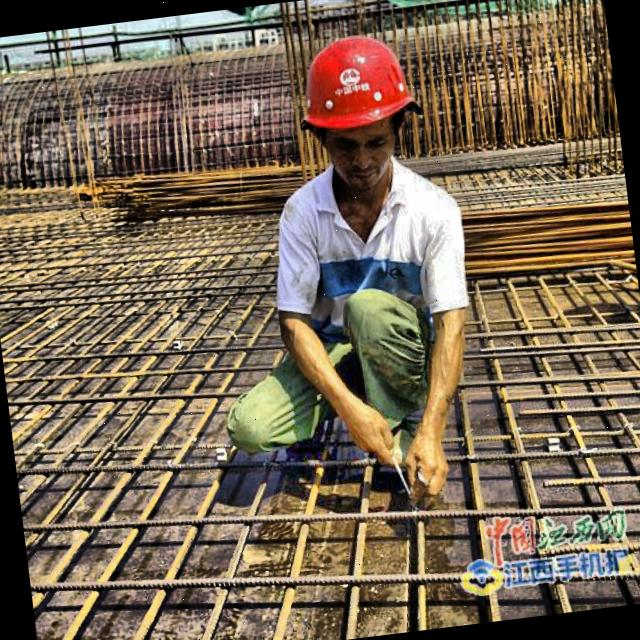helmet: (284, 5, 436, 212)
